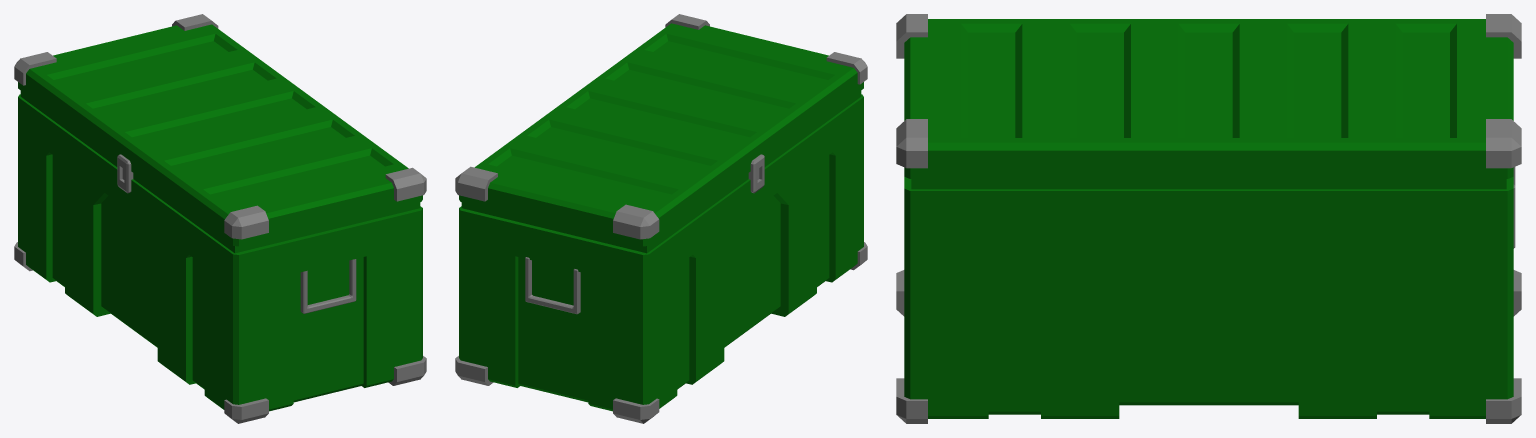
The model's file is chest.fbx.
3 renders of one model, left to right at view 1: azimuth 30°, elevation 25°; view 2: azimuth 150°, elevation 25°; view 3: azimuth 270°, elevation 25°, orthographic. The views are drawn at different scales.
Visible parts, largest first — view 1: Chest, Cube, RightHandTake, Lock; view 2: Chest, Cube, LeftHandTake, Lock; view 3: Chest, Cube.
Boxes of the visible parts, x1,y1,x2,y2 form: Chest: (18, 24, 422, 411); Cube: (14, 14, 426, 423); RightHandTake: (300, 259, 356, 313); Lock: (117, 154, 133, 193); Chest: (459, 23, 863, 411); Cube: (455, 14, 867, 423); LeftHandTake: (525, 257, 580, 314); Lock: (748, 154, 764, 193); Chest: (904, 19, 1513, 418); Cube: (896, 14, 1521, 423).
Bounding box in the file's own units: 77.38 × 77.79 × 154.
